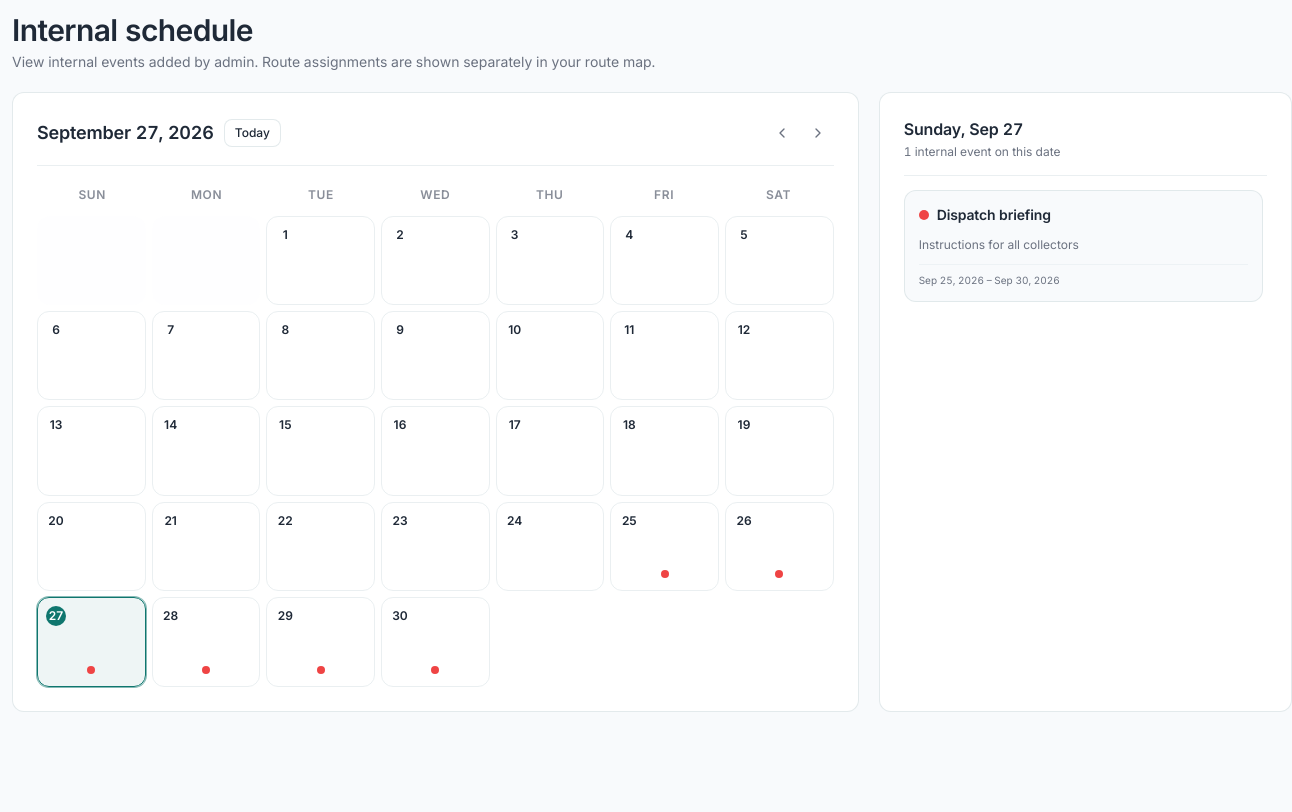
Test: keeps cached events visible during background refresh and returning to a loaded month
expect the element that starts with "Sunday, Sep 27" shows "Dispatch briefing": met, box [937,206,1051,222]
What coordinates should you click on to do the following:
click the button titled "Next Month"
I would click on:
 (818, 132)
Its box is [802,116,834,148].
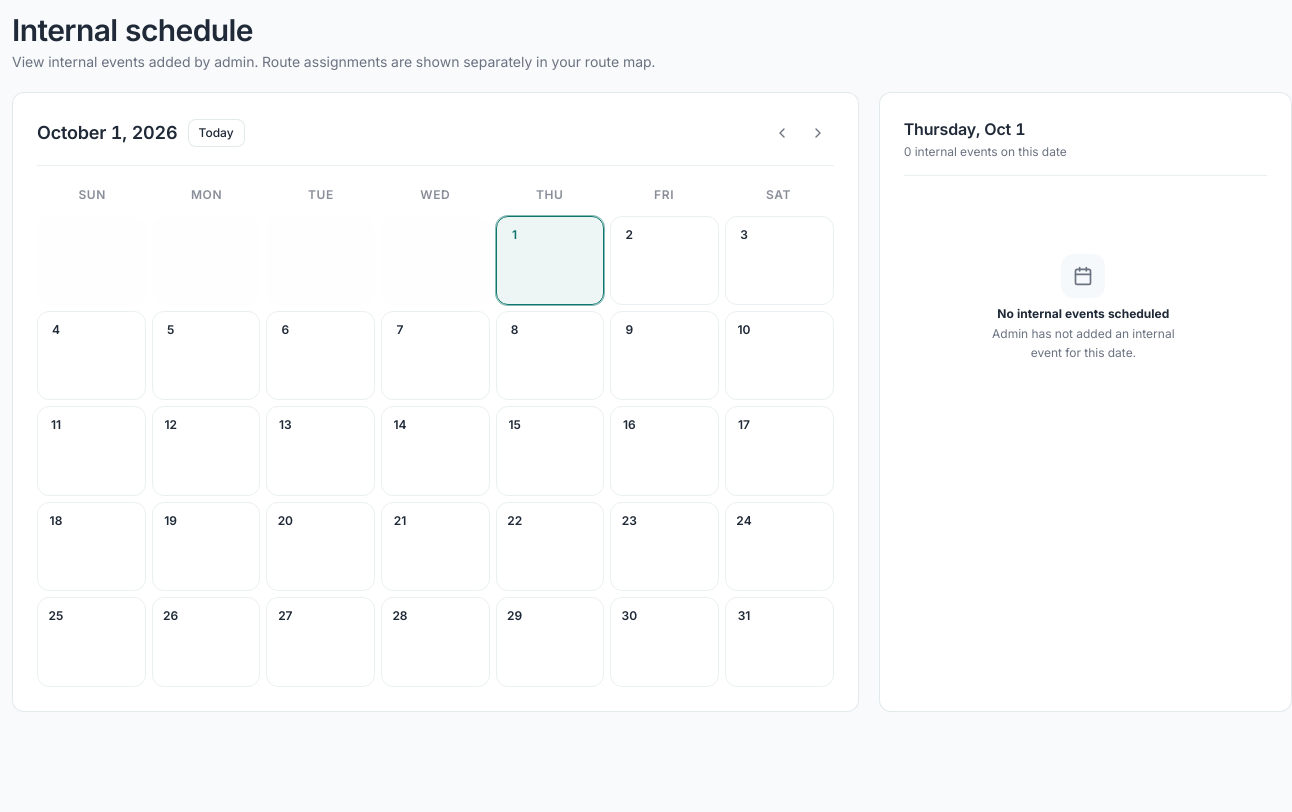
What coordinates should you click on to do the following:
click the button titled "Previous Month"
I would click on:
 (782, 132)
Its box is [766,116,798,148].
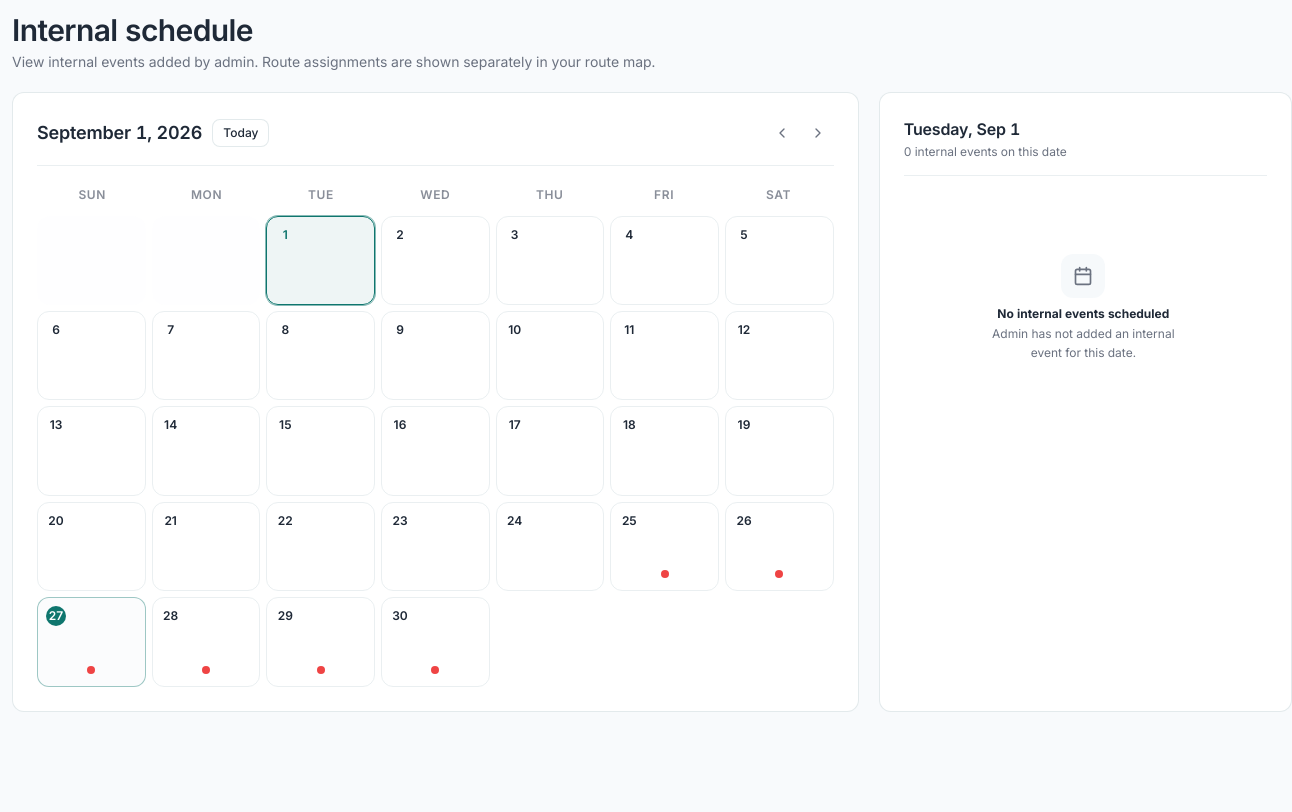
What coordinates should you click on to do the following:
click the button "27"
I would click on:
 (91, 642)
Its box is [37,597,146,686].
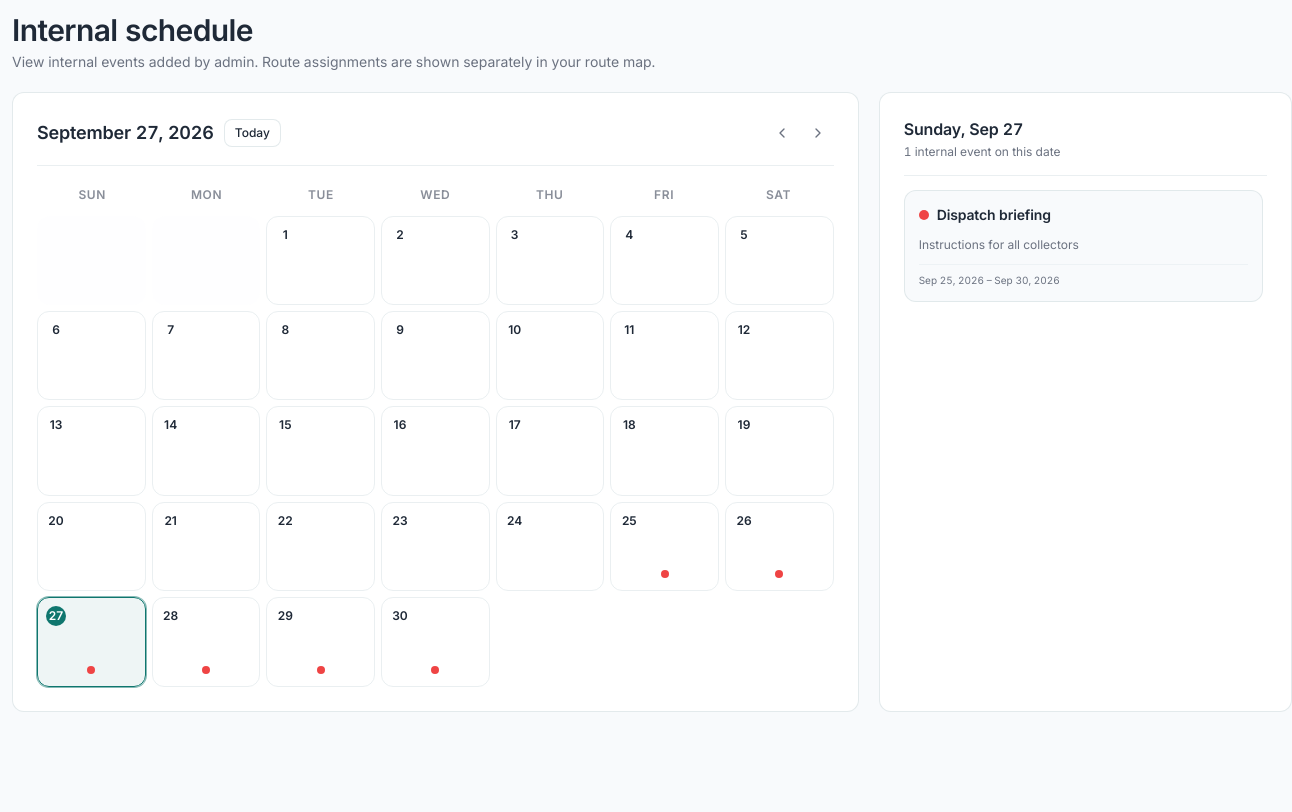
expect the element that starts with "Sunday, Sep 27" shows "Dispatch briefing": met, box [937,206,1051,222]
